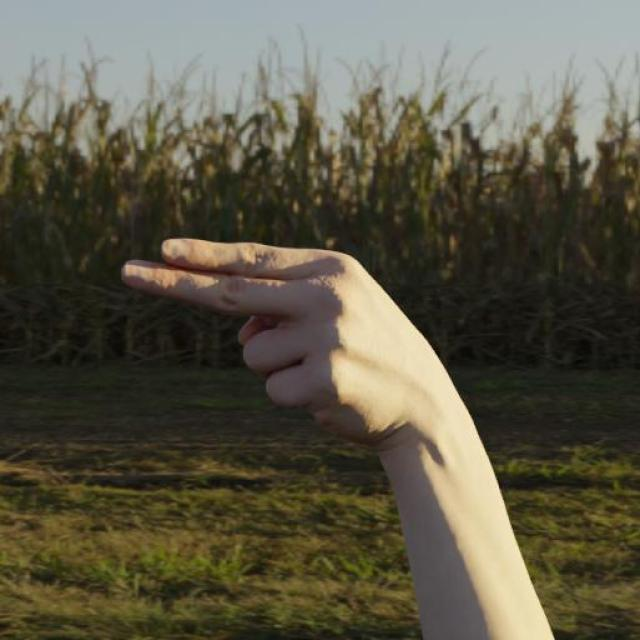H: (109, 232, 457, 447)
